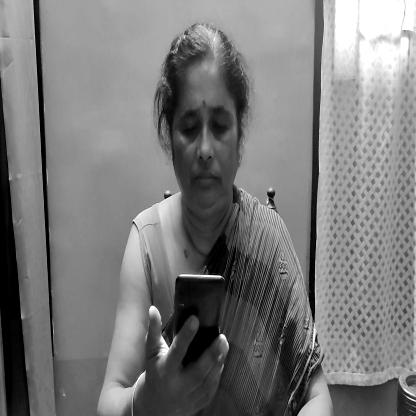Distracted: (159, 33, 249, 224)
